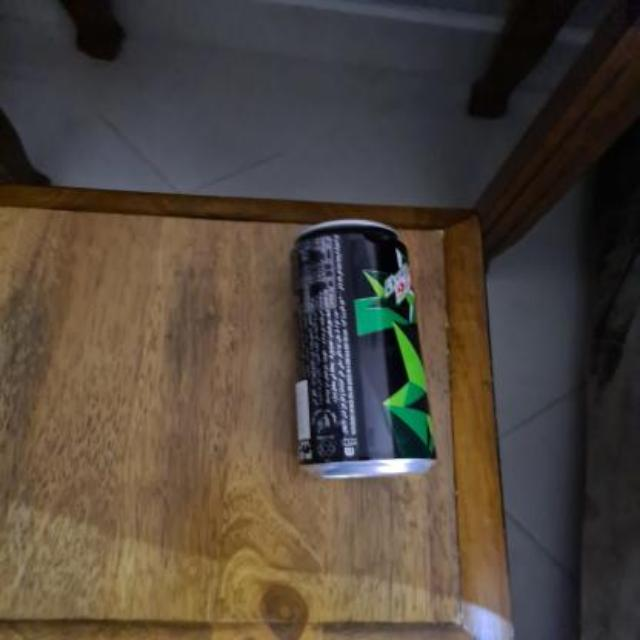metal: (292, 218, 432, 475)
